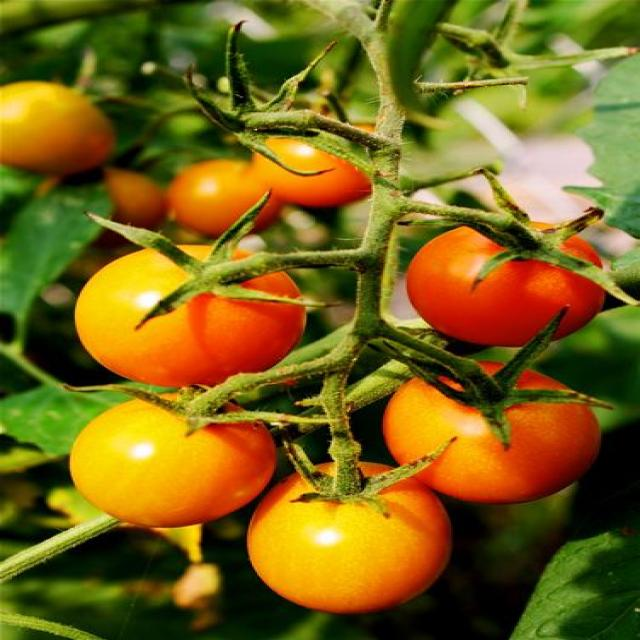level 4: (75, 241, 304, 390), (245, 458, 455, 616), (70, 392, 280, 528), (260, 121, 389, 207), (0, 81, 115, 177), (173, 156, 278, 234)
level 5: (388, 361, 600, 508), (402, 224, 606, 348)
